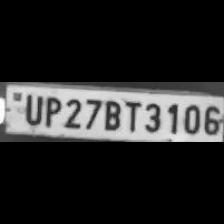0: (181, 102, 201, 134)
1: (162, 100, 180, 134)
2: (60, 96, 82, 128)
3: (141, 99, 163, 133)
6: (201, 102, 221, 136)
7: (82, 96, 100, 130)
B: (100, 97, 122, 131)
P: (41, 94, 61, 128)
T: (122, 98, 142, 132)
U: (20, 92, 42, 125)
